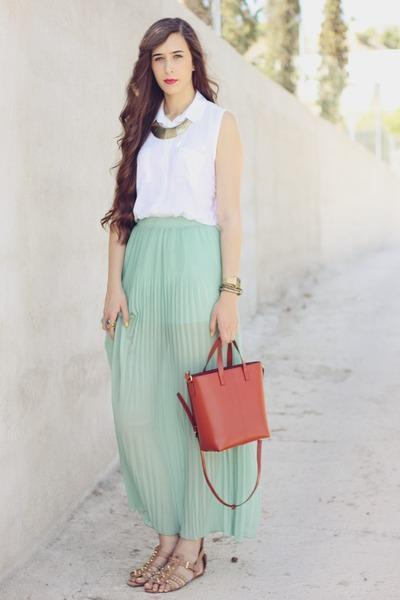bag: (177, 324, 269, 491)
shirt: (134, 92, 219, 224)
shoe: (132, 531, 203, 592)
skirt: (103, 214, 261, 552)
